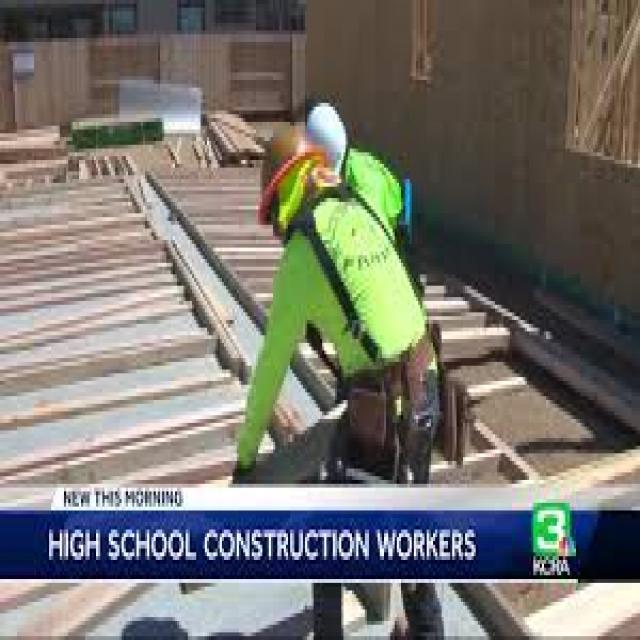Safety-Helmet: (242, 119, 335, 247), (296, 88, 358, 179)
